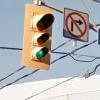Traffic light: (22, 8, 66, 77)
